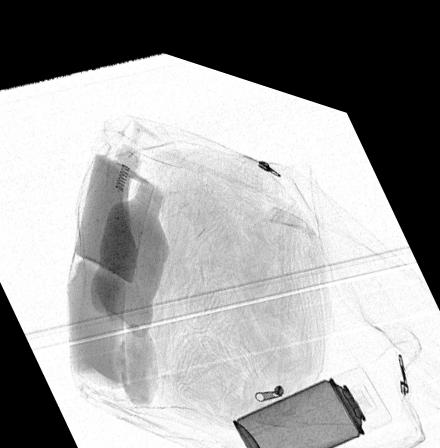Sprayer: (232, 342, 393, 448)
